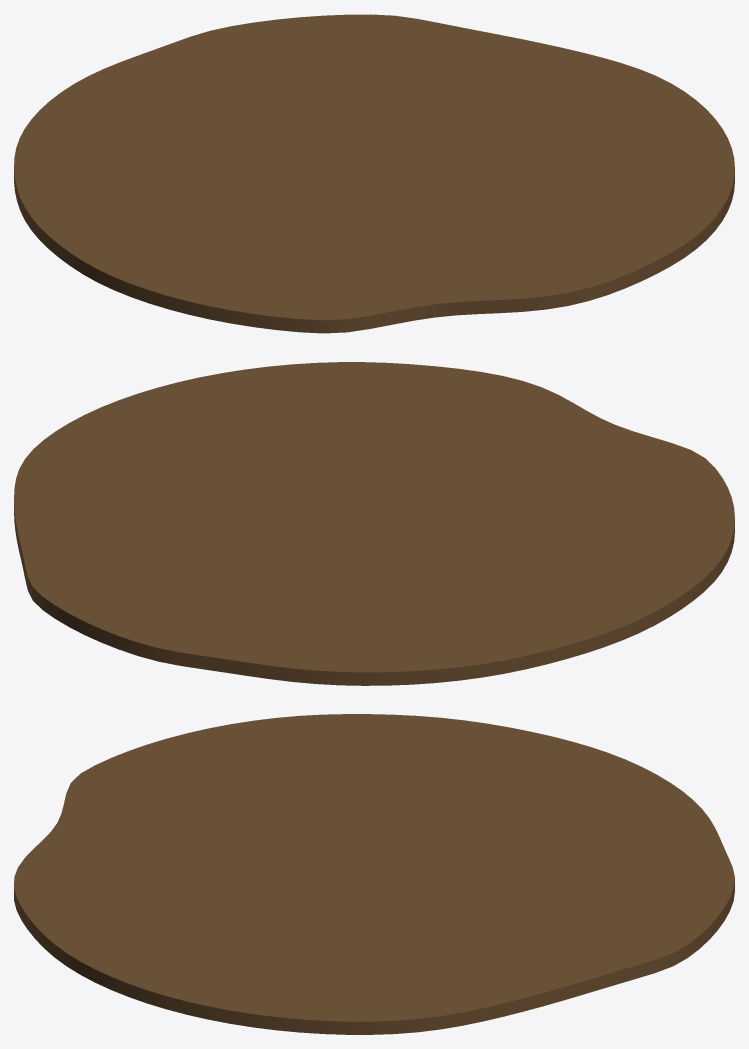
File: pile_disc_irregular.fbx
3 views of the same model, one above another, from view 1: azimuth 30°, elevation 25°; view 2: azimuth 150°, elevation 25°; view 3: azimuth 270°, elevation 25° (orthographic).
Visible parts, largest first — view 1: PileDisc_Irregular; view 2: PileDisc_Irregular; view 3: PileDisc_Irregular.
Boxes of the visible parts, x1,y1,x2,y2 form: PileDisc_Irregular: (14, 14, 734, 333); PileDisc_Irregular: (14, 362, 734, 685); PileDisc_Irregular: (14, 714, 734, 1034).
Bounding box in the file's own units: 0.9924 × 0.02 × 0.9832.
